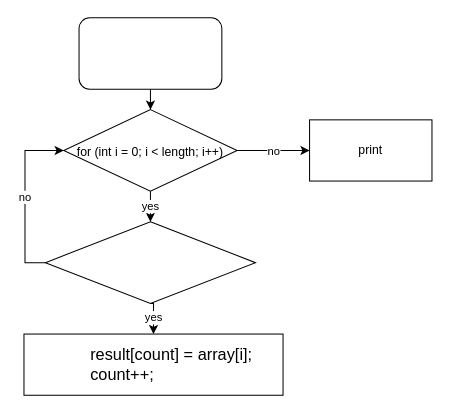
The diagram is 450 pixels wide and 413 high, and some of its shapes have lost their labels. Here are the shapes that lost their labels. From the top down, the centre of each, then its label:
At pixel 150 53: "string[] array1".
At pixel 150 262: "if(array[i].Length <= 3".
